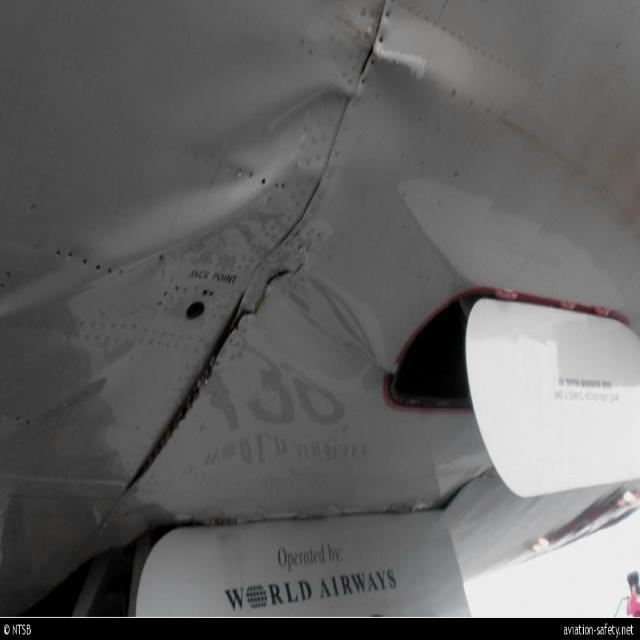crack: (229, 261, 307, 339)
dent: (2, 87, 352, 319), (364, 57, 428, 164)
